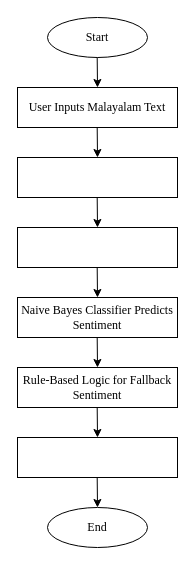
The diagram is 195 pixels wide and 565 high, and some of its shapes have lost their labels. Each missing label, with the centre of its shape:
"Display Sentiment on Web Page" belongs at pixel 97 457.
"Flask Web App Receives Request" belongs at pixel 97 177.
"Preprocessing (Cleaning, Tokenizing, TF-IDF)" belongs at pixel 97 247.
